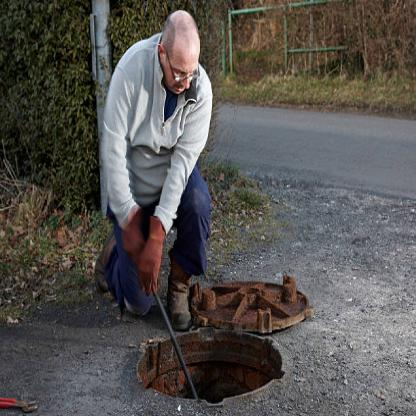manholes: (115, 256, 328, 416)
